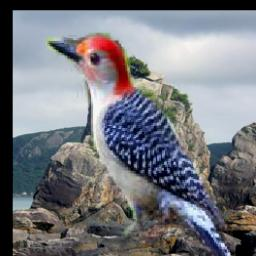Woodpecker: (47, 33, 241, 256)
